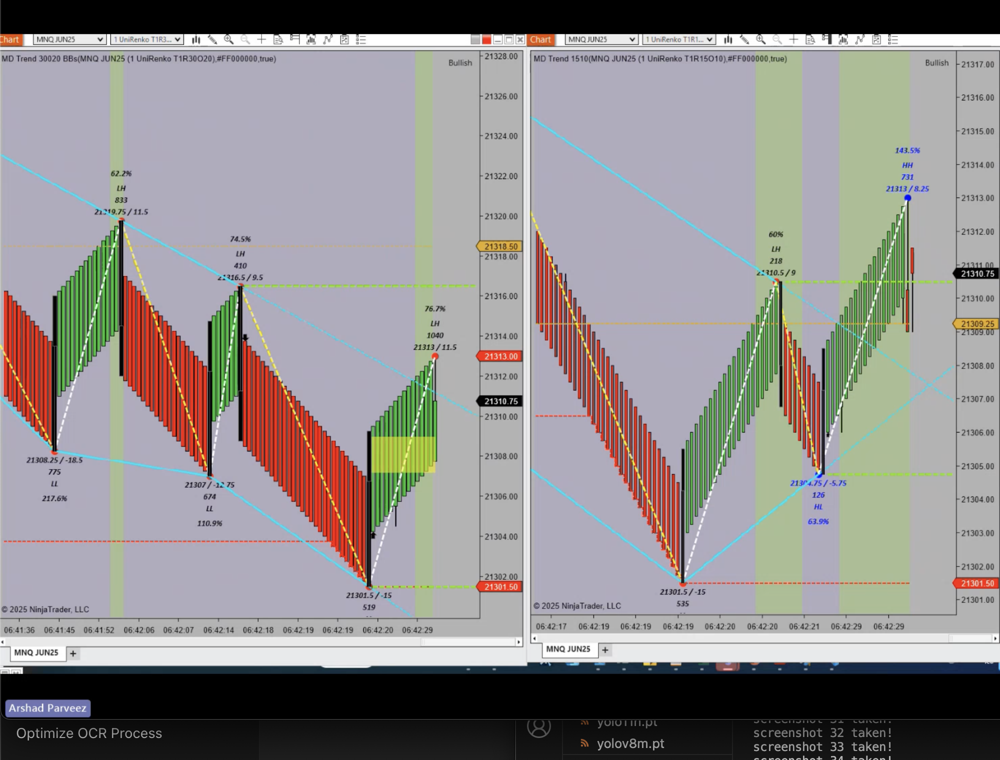HH: (897, 158, 919, 172)
HL: (810, 498, 829, 515)
LH: (113, 179, 133, 196), (767, 243, 789, 257), (231, 245, 251, 260), (427, 316, 443, 329)
LL: (44, 475, 64, 493), (202, 499, 219, 517)
